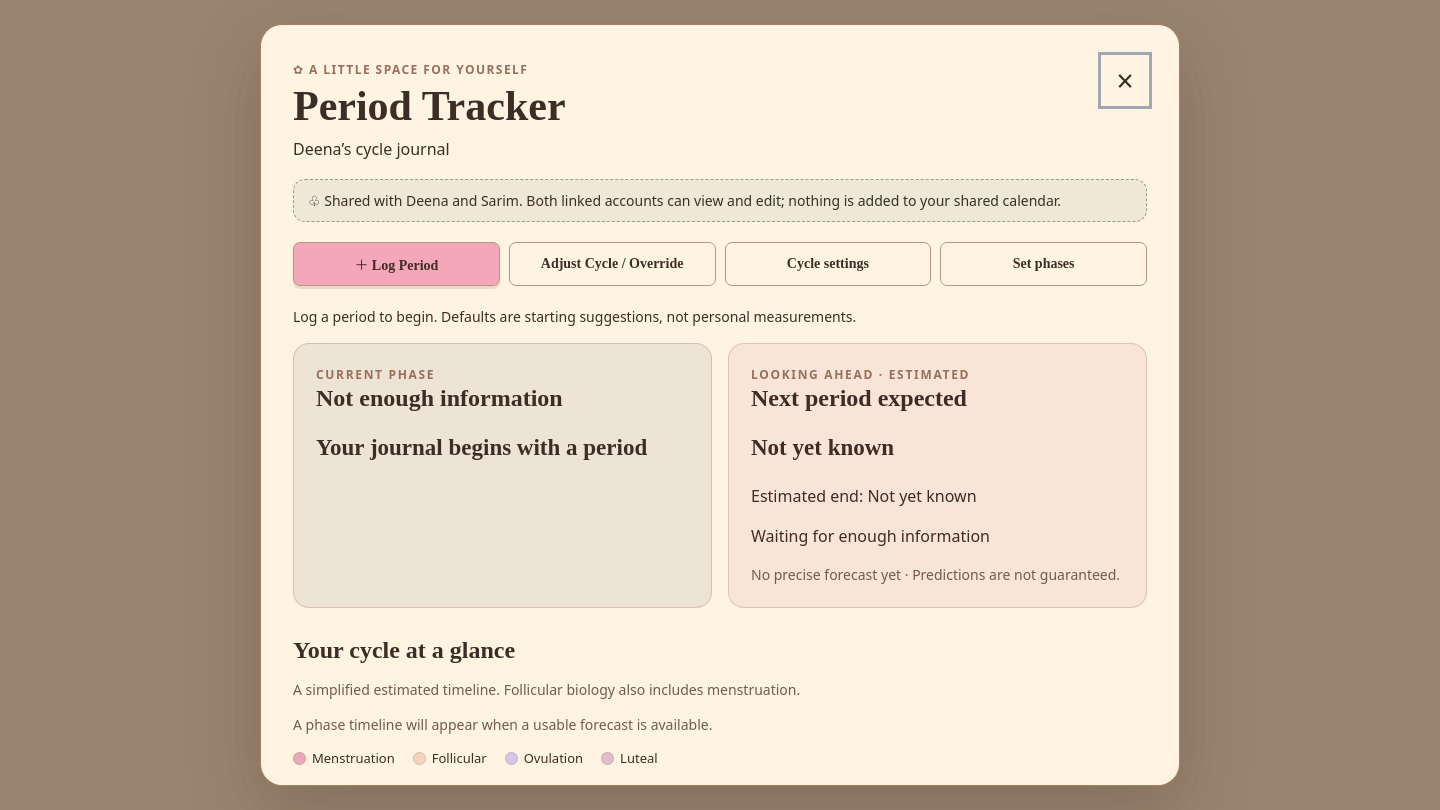
it: private cycle journal interactions with simulated persistence › retains an unsaved period draft when a write fails
Click the button "＋ Log Period". click: click(396, 264)
box: [293,242,500,286]
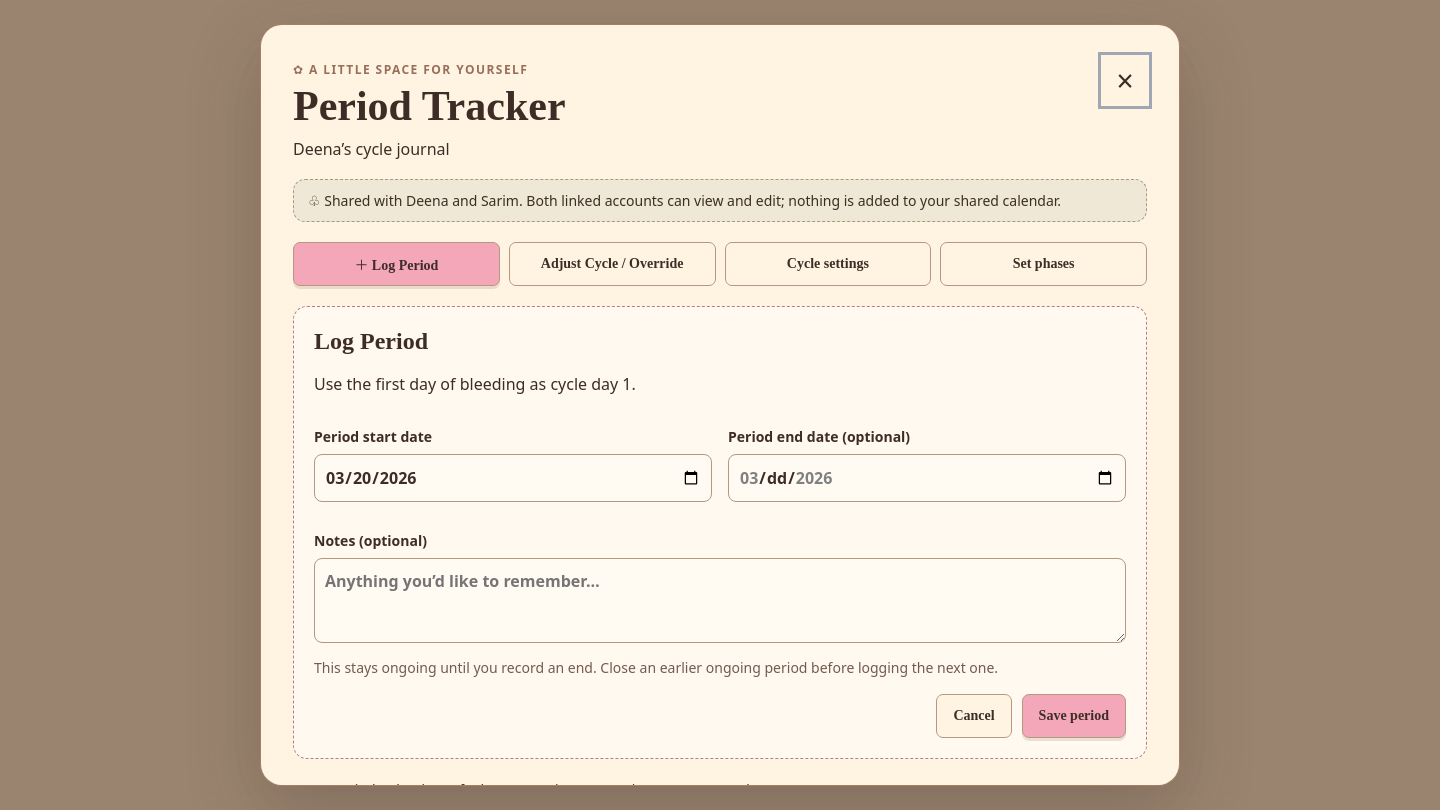
Click the button "Save period". click: click(1074, 716)
box: [1022,694,1126,738]
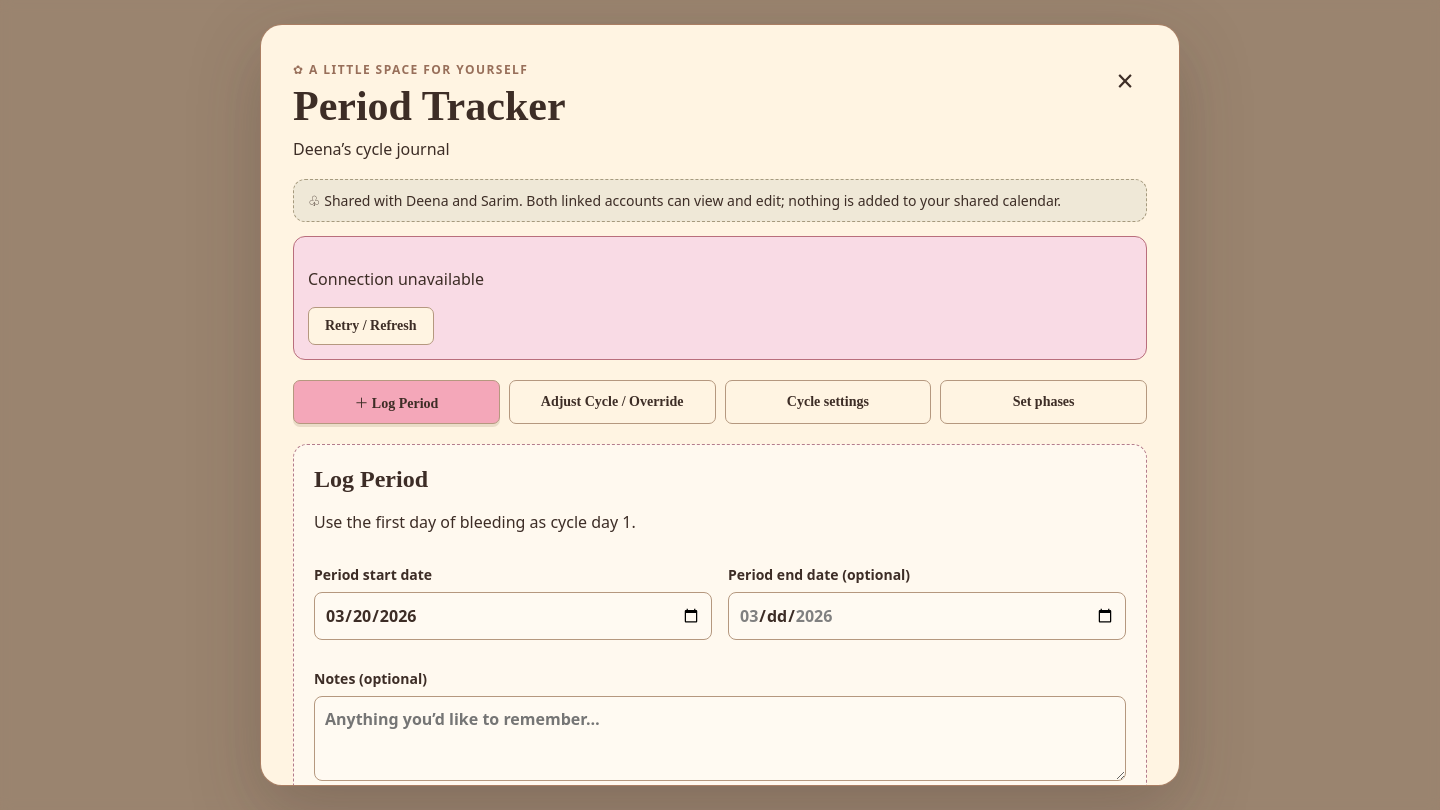
Check: the date field labelled "Period start date" holds "2026-03-20", box [314,592,712,640]
Check: the text "Connection unavailable" is shown, box [308,268,484,290]
